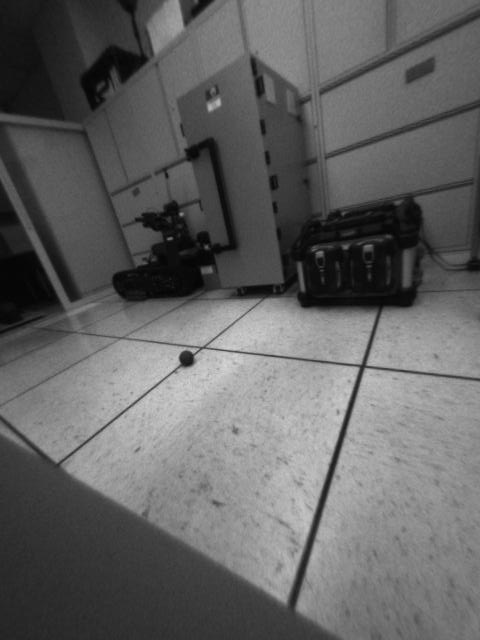dogtoy: (174, 343, 201, 371)
